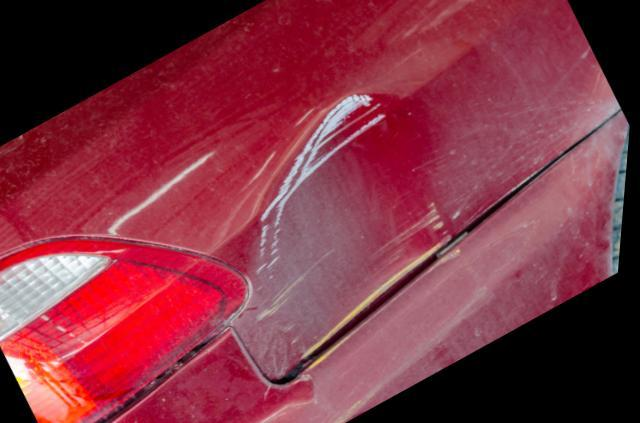dent: (257, 96, 455, 351)
